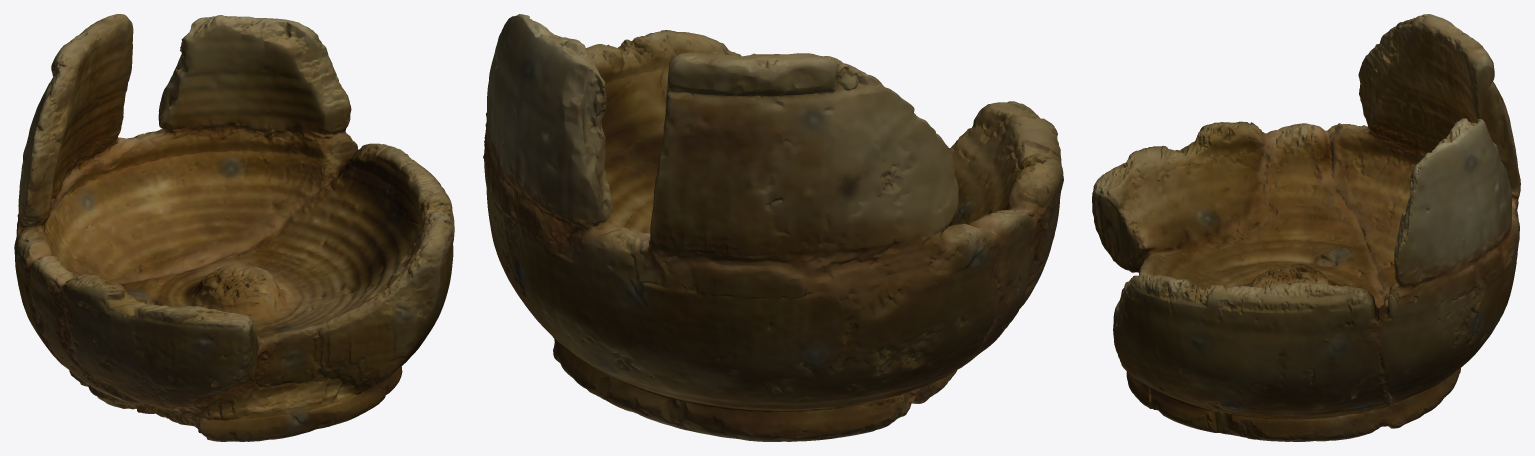
The model's file is 2005_34_263_1_ratio03.glb.
3 views of the same model, side by side, from view 1: azimuth 30°, elevation 25°; view 2: azimuth 150°, elevation 25°; view 3: azimuth 270°, elevation 25° (orthographic). The views are drawn at different scales.
Parts seen in each view (by area): view 1: 2005_34_263_1; view 2: 2005_34_263_1; view 3: 2005_34_263_1.
Part boxes in pixels (bbox=[...]): 2005_34_263_1: bbox=[14, 14, 454, 441]; 2005_34_263_1: bbox=[483, 14, 1063, 441]; 2005_34_263_1: bbox=[1092, 14, 1520, 441].
Bounding box in the file's own units: 0.2172 × 0.1648 × 0.204.
